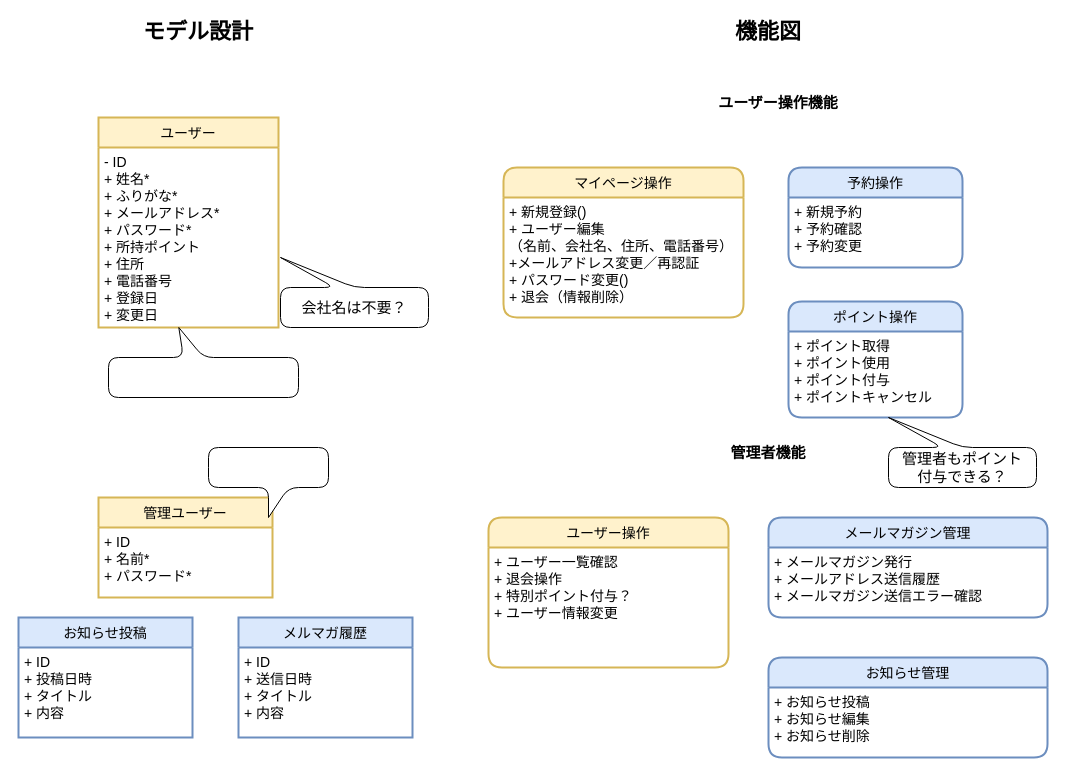
The diagram is 1065 pixels wide and 775 high, and some of its shapes have lost their labels. Here are the shapes that lost their labels. From the top down, the centre of each, then its label:
(x=203, y=362): データは退会時に削除
(x=268, y=482): 複数権限必要？
